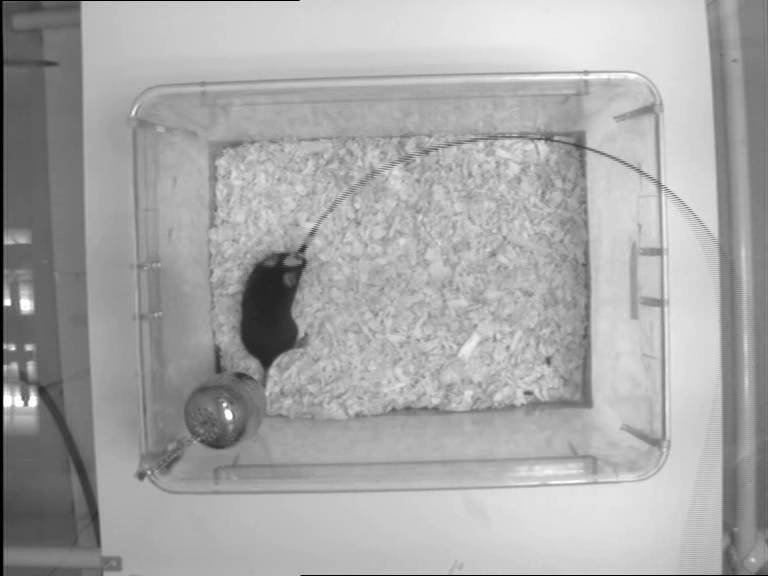mice: (239, 248, 312, 385)
